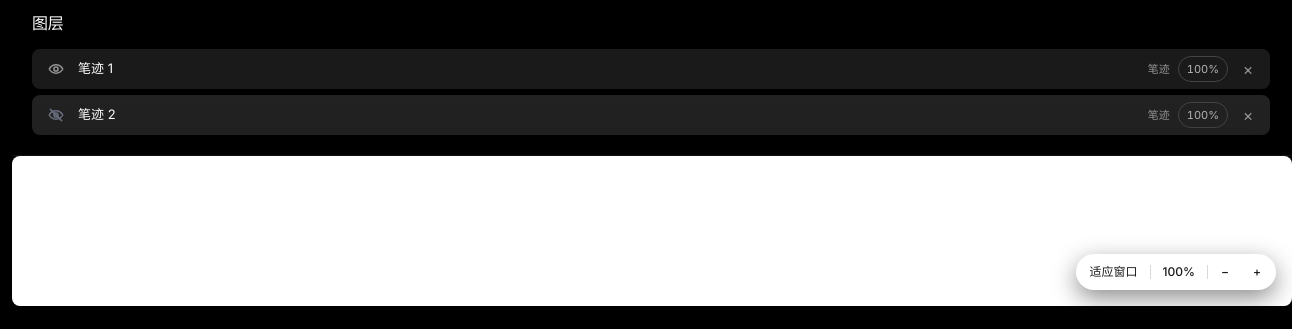
Test: 删除恢复条 › 点撤销后名称、可见性、内容与画布对象回到删除前
Step 1. Click the button named "删除 笔迹 2" → [1248, 115], box x1=1236 y1=103 x2=1260 y2=127
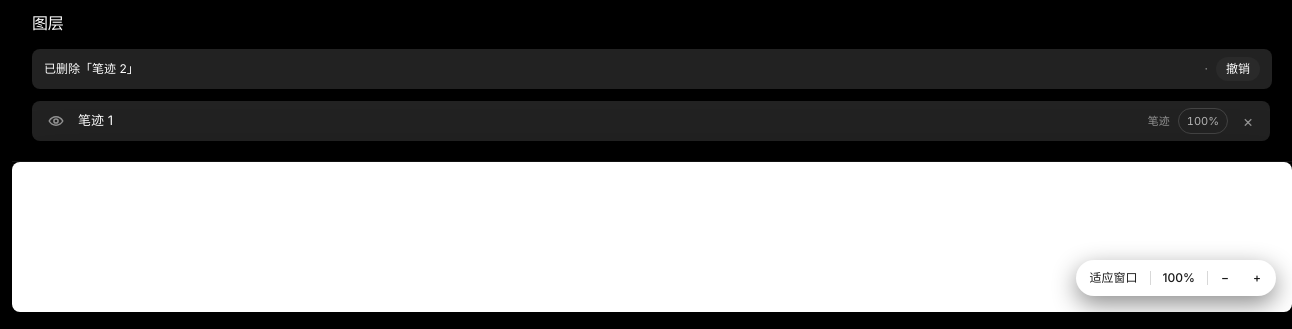
Step 2. Click the button "撤销" → [1238, 69], box x1=1216 y1=57 x2=1260 y2=81
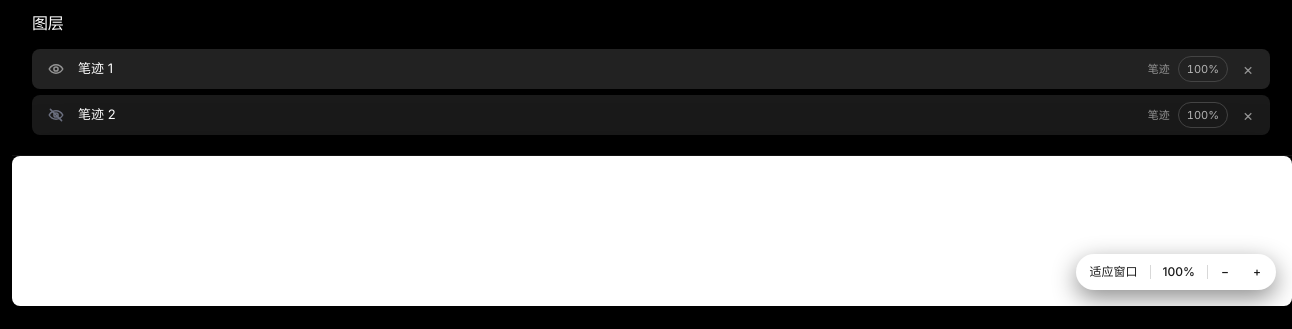
Expected: the text "笔迹 2" is shown, x1=78 y1=106 x2=116 y2=122
Now the number of options is 2, box x1=32 y1=49 x2=1270 y2=89; x1=32 y1=95 x2=1270 y2=135
Now the message "已删除「笔迹 2」 · 撤销" is gone
